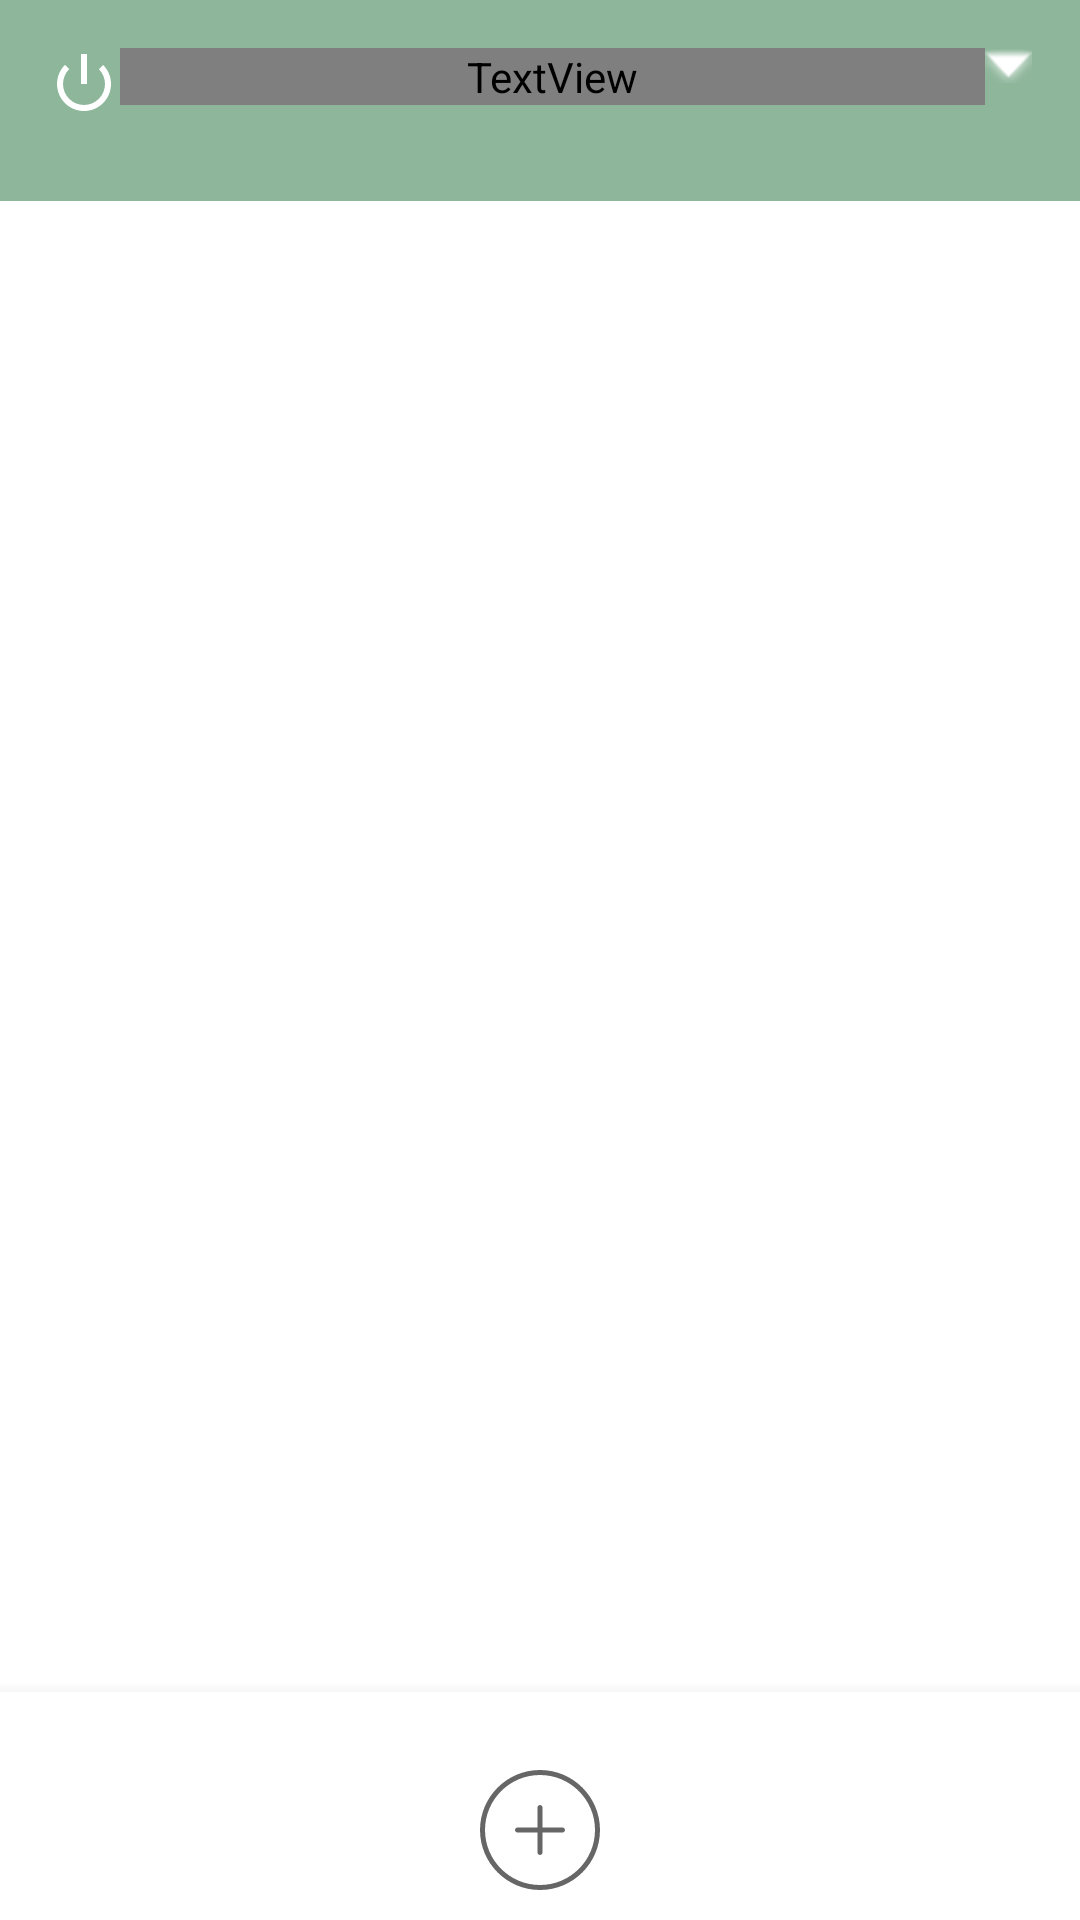

Icons on this 1080*1920 Android screen, each with its box as rect(x1, y1, x2, y2):
add: rect(480, 1770, 600, 1890)
arrow down float: rect(985, 51, 1032, 79)
